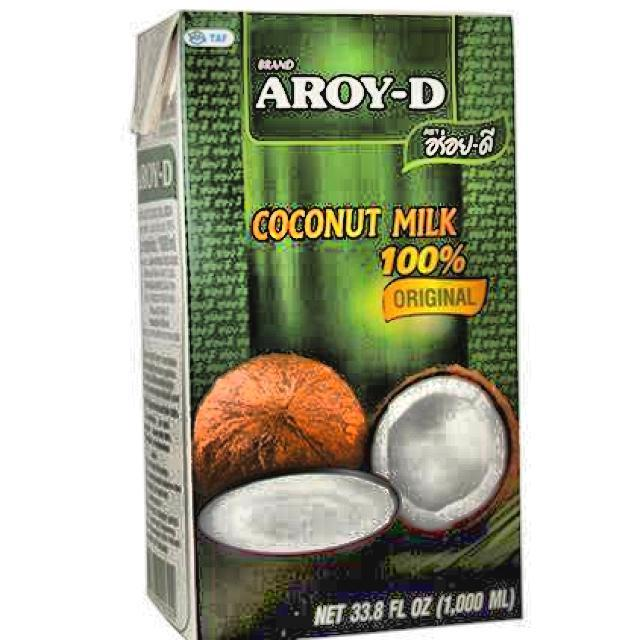cardboard: (130, 7, 521, 640)
